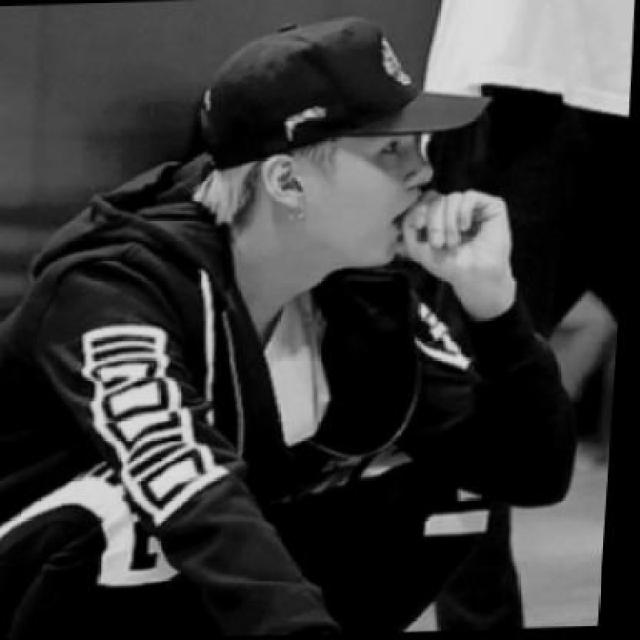hat: (191, 16, 492, 172)
